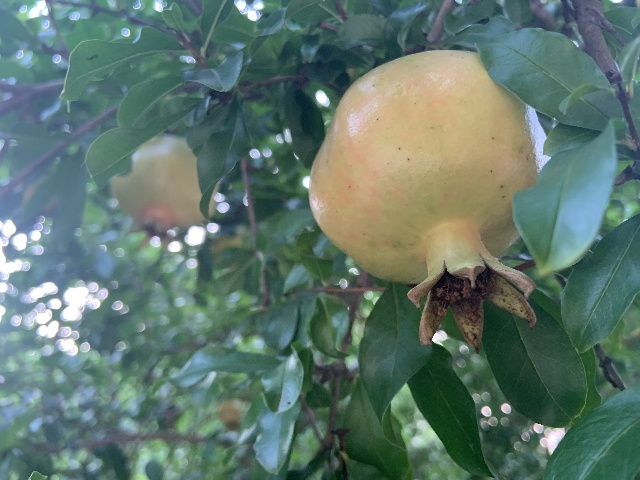mid-growth: (308, 49, 550, 352), (111, 134, 218, 250)
